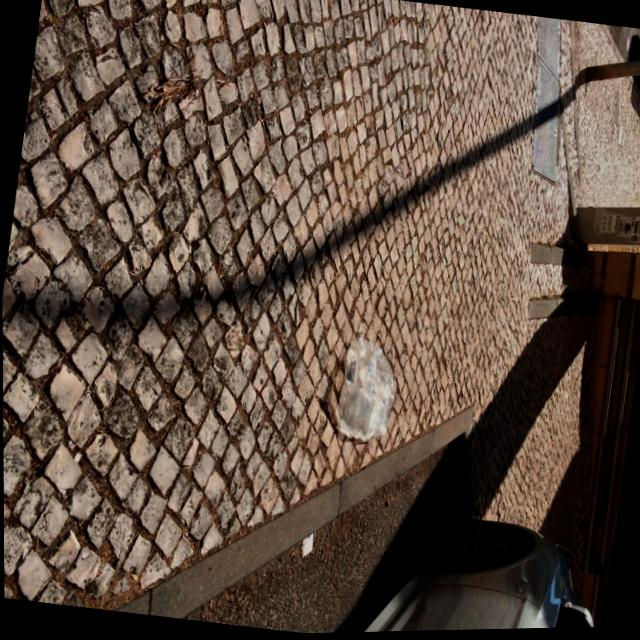Plastic: (328, 329, 406, 453)
